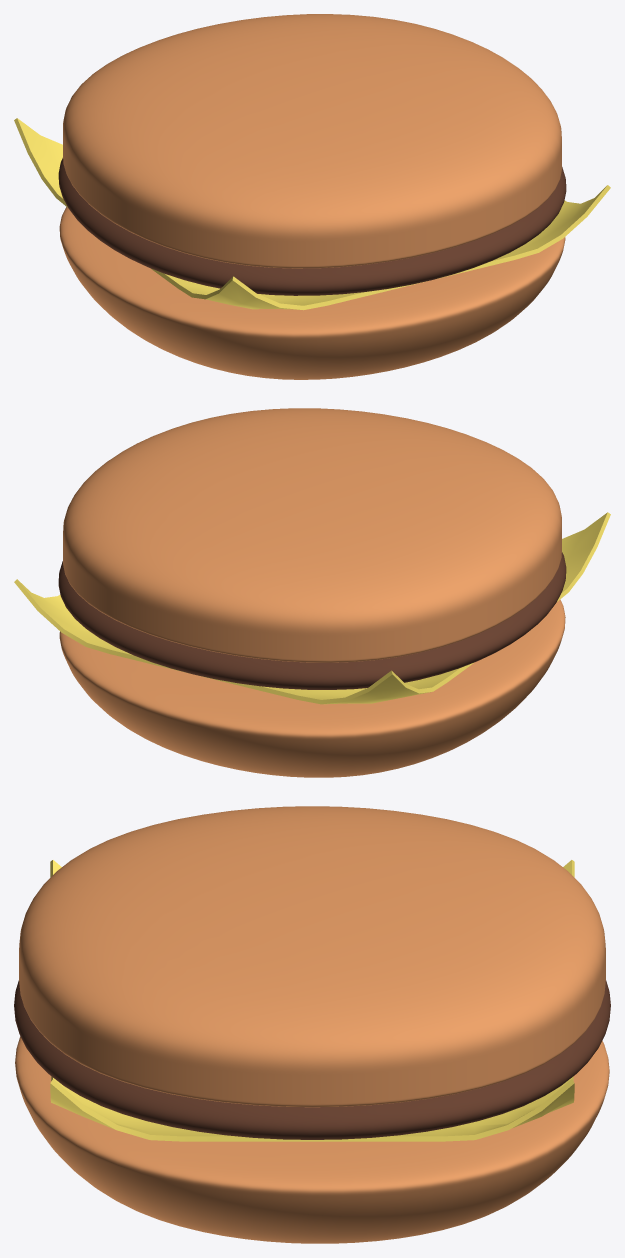
The model's file is hamburger.glb.
The picture shows the model from 3 angles, top to bottom: view 1: azimuth 30°, elevation 25°; view 2: azimuth 150°, elevation 25°; view 3: azimuth 270°, elevation 25°; orthographic projection. The views are drawn at different scales.
Parts seen in each view (by area): view 1: Cube, Cube.002, Cube.001, Plane; view 2: Cube, Cube.002, Cube.001, Plane; view 3: Cube, Cube.002, Cube.001, Plane.
Boxes of the visible parts, x1,y1,x2,y2 form: Cube: (63,14,561,268); Cube.002: (59,207,565,379); Cube.001: (58,158,566,295); Plane: (14,118,610,310); Cube: (63,408,561,662); Cube.002: (59,599,565,777); Cube.001: (58,552,566,689); Plane: (14,512,610,704); Cube: (19,806,605,1107); Cube.002: (15,1036,609,1243); Cube.001: (14,980,610,1139); Plane: (50,860,574,1141).
Bounding box in the file's own units: 9.11 × 4.78 × 9.11.
